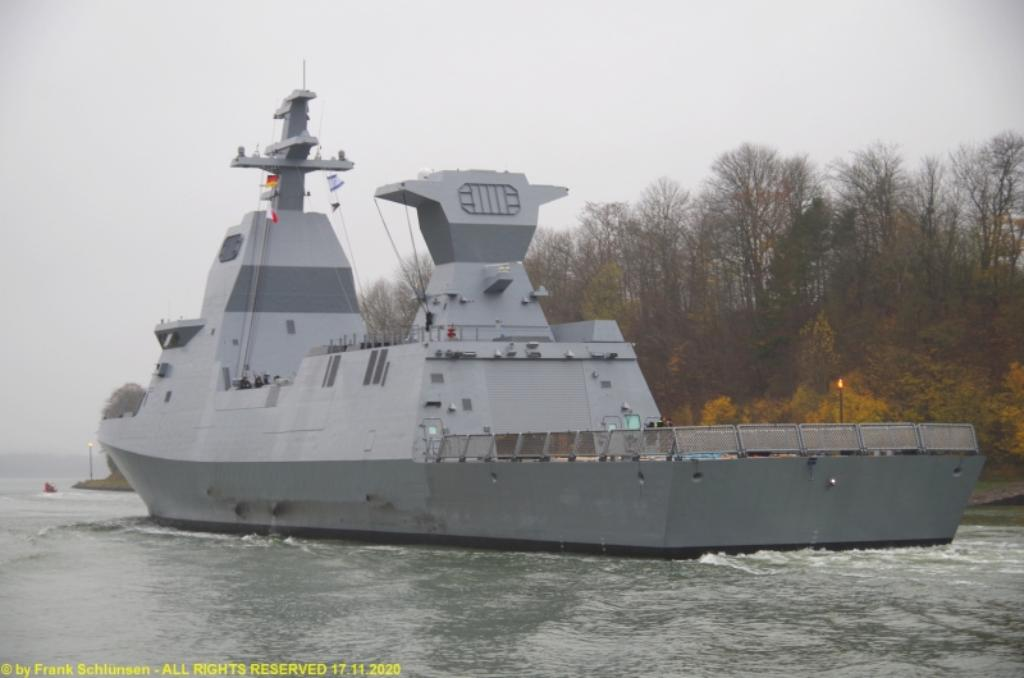Warship: (94, 62, 982, 556)
